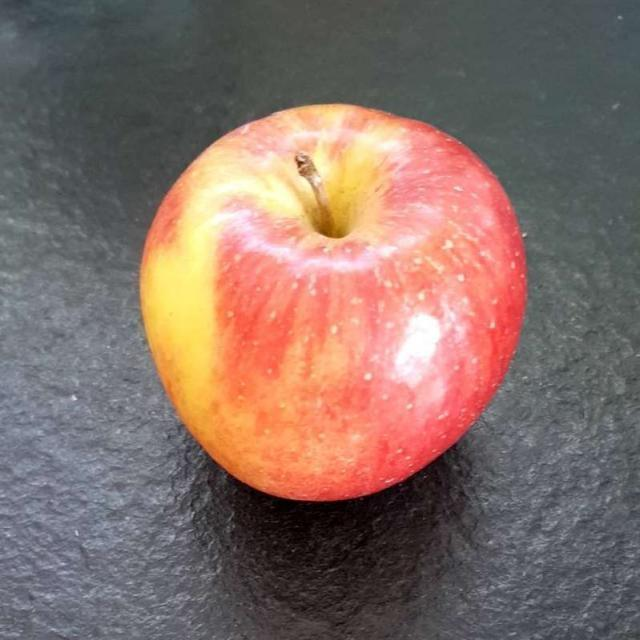apple: (141, 113, 520, 495)
